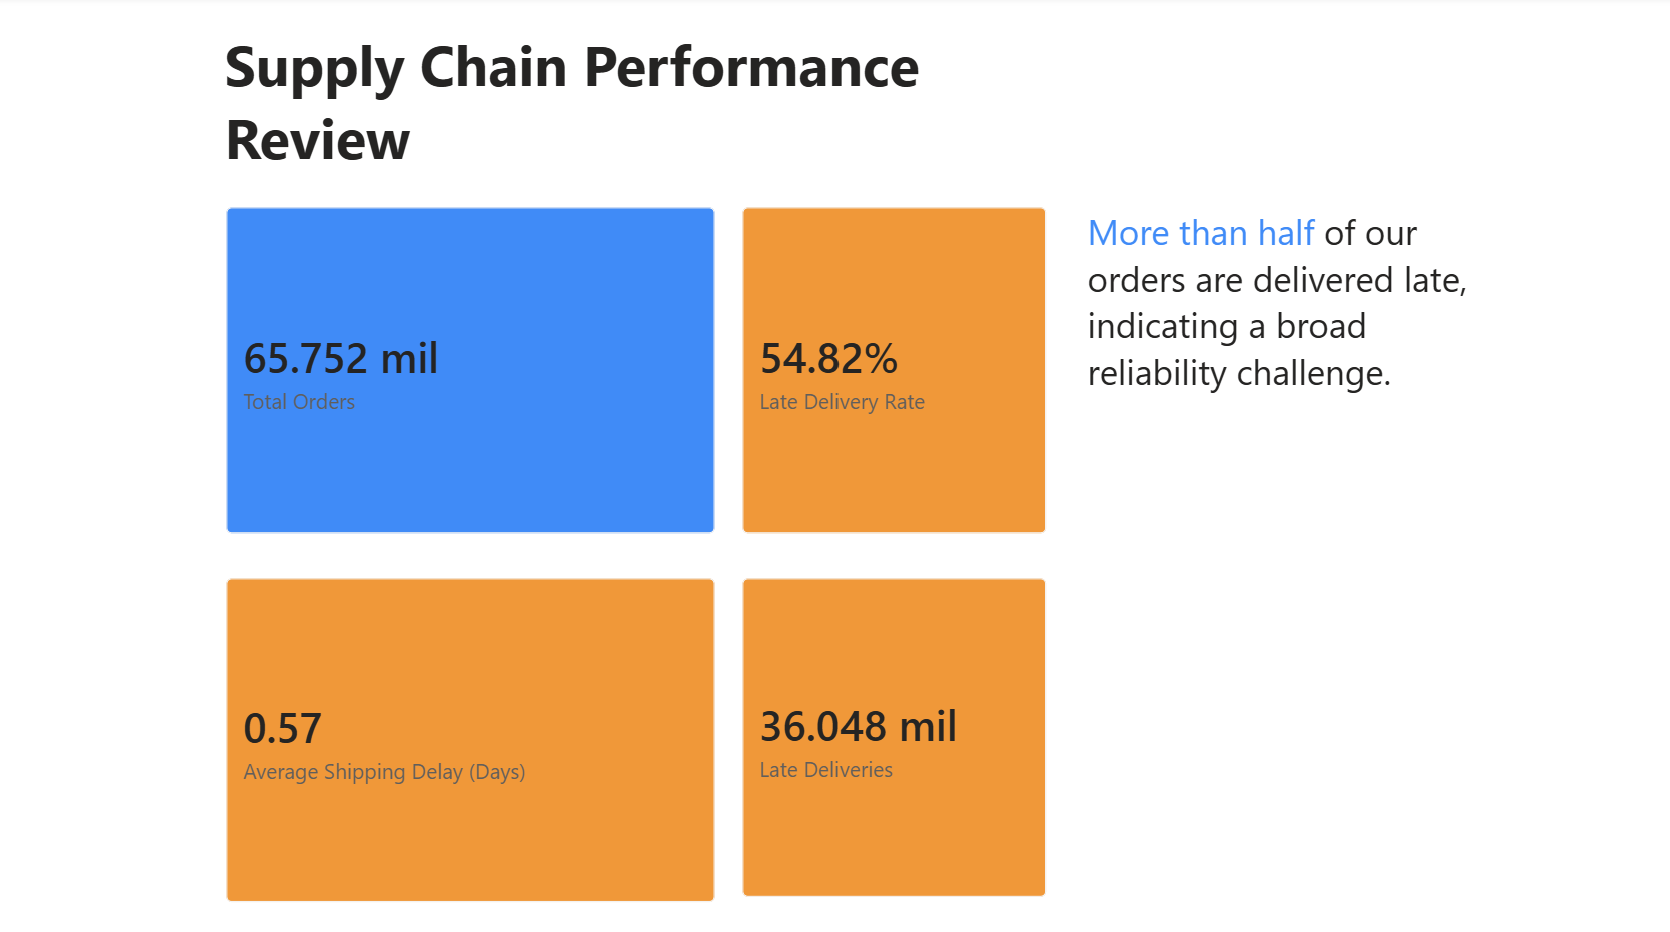

The dashboard page shown, as its layout file describes it:
{"tool":"powerbi","page":{"name":"Página 1","canvas":[1280,720],"ordinal":0},"visuals":[{"type":"cardVisual","fields":{"Data":["public v_dim_customers.Late Deliveries"]},"box":[550.7,428.4,266.7,278.9],"z":0},{"type":"cardVisual","fields":{"Data":["public v_fact_orders.Actual Late Delivery Rate"]},"box":[550.7,145,266.7,283.3],"z":1000},{"type":"cardVisual","fields":{"Data":["Avg(public v_fact_orders.shipping_delay_days)"]},"box":[156.3,428.4,408.9,282.2],"z":2000},{"type":"cardVisual","fields":{"Data":["public v_dim_customers.Total Orders"]},"box":[156.3,145,408.9,283.3],"z":3000},{"type":"textbox","box":[166.3,18.4,651.1,126.7],"z":4000},{"type":"textbox","box":[826.4,157.7,312.3,270.3],"z":5000}]}

Visuals, with their boxes in screenshot pixels (x1, y1, x2, y2), scaled from the page's 1280x720 canvas onto the 1670x932 screenshot:
cardVisual - public v_dim_customers.Late Deliveries: bbox(718, 555, 1066, 916)
cardVisual - public v_fact_orders.Actual Late Delivery Rate: bbox(718, 188, 1066, 554)
cardVisual - Avg(public v_fact_orders.shipping_delay_days): bbox(204, 555, 737, 920)
cardVisual - public v_dim_customers.Total Orders: bbox(204, 188, 737, 554)
textbox: bbox(217, 24, 1066, 188)
textbox: bbox(1078, 204, 1486, 554)
